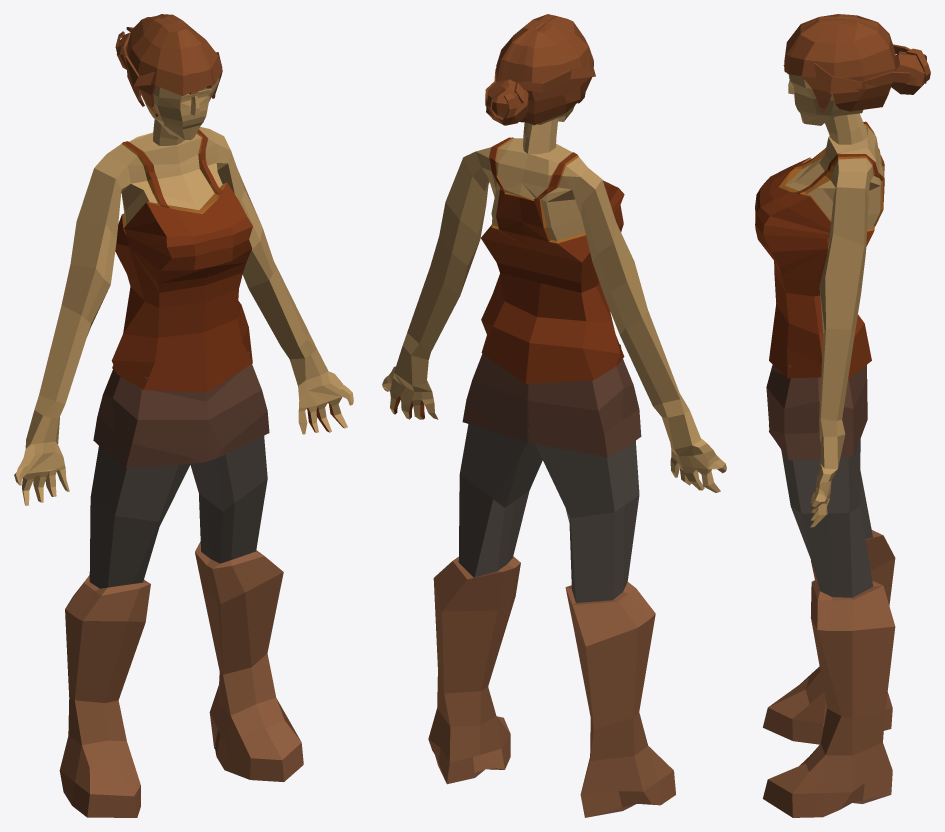
File: character.obj
3 views of the same model, side by side, from view 1: azimuth 30°, elevation 25°; view 2: azimuth 150°, elevation 25°; view 3: azimuth 270°, elevation 25° (orthographic). The views are drawn at different scales.
Parts seen in each view (by area): view 1: Legs, Body, Hair, Head; view 2: Legs, Body, Hair, Neck, Bun; view 3: Legs, Body, Hair, Head, Neck, Bun.
Part boxes in pixels (<box>): Legs: <box>59,352,303,817</box>; Body: <box>14,127,353,505</box>; Hair: <box>115,14,222,117</box>; Head: <box>141,76,219,140</box>; Legs: <box>428,344,675,817</box>; Body: <box>382,137,726,492</box>; Hair: <box>485,14,595,125</box>; Neck: <box>523,118,558,154</box>; Bun: <box>486,79,528,125</box>; Legs: <box>763,364,895,817</box>; Body: <box>755,121,884,527</box>; Hair: <box>783,14,930,112</box>; Head: <box>788,74,863,125</box>; Neck: <box>825,113,868,144</box>; Bun: <box>891,51,925,94</box>.
Size of the model in its own units: 0.9288 by 1.99 by 0.4227.
Materials: 1 (1 with a texture image).
